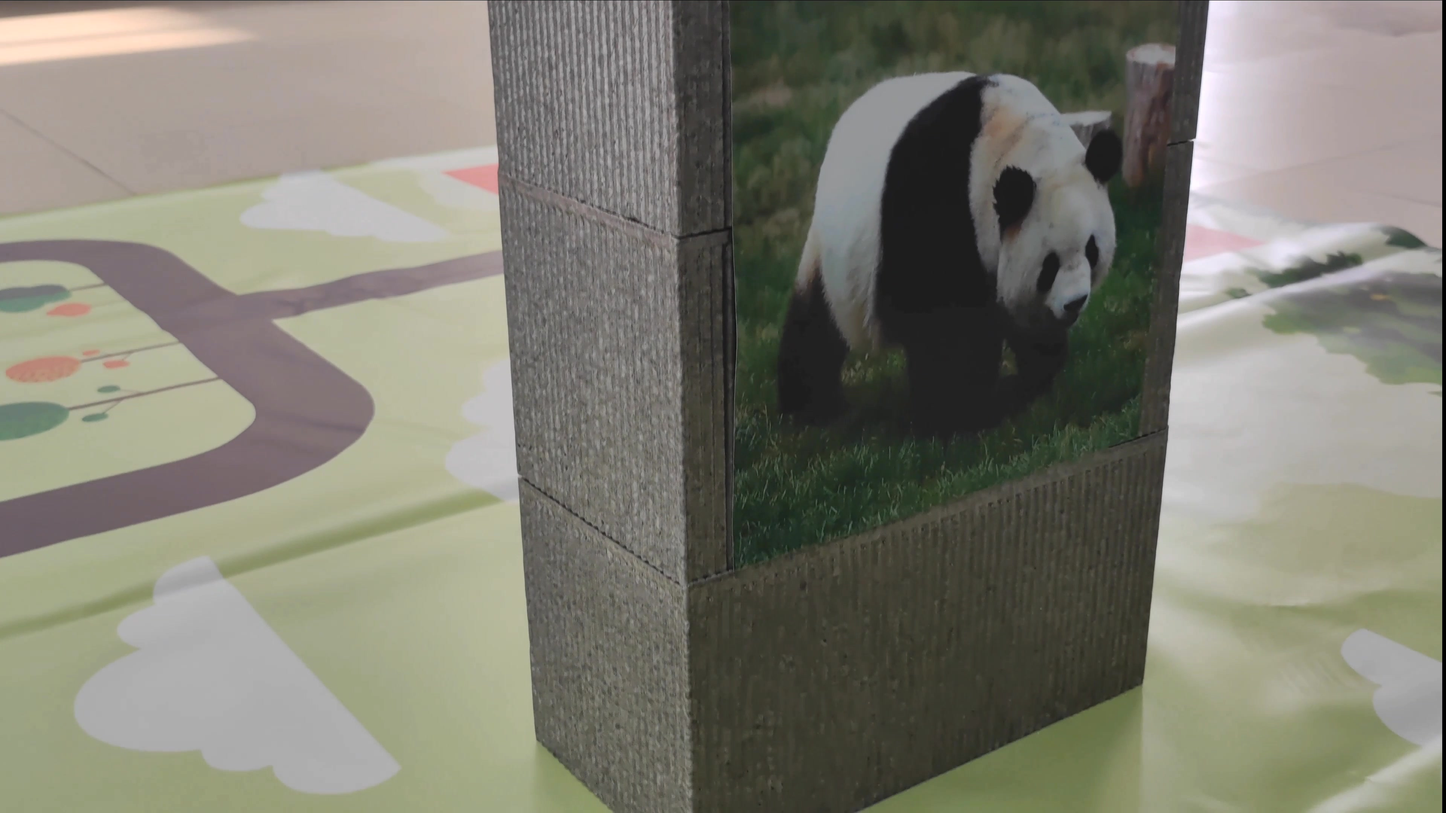panda: (752, 46, 1164, 419)
